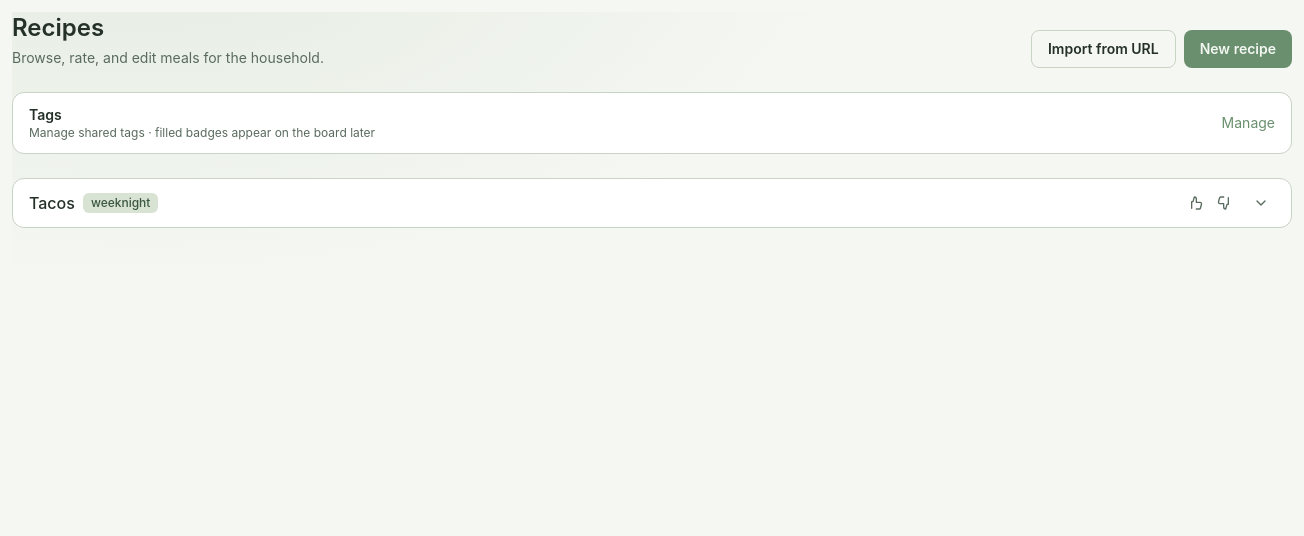
it: RecipesPage › expands a recipe to show details and actions
The width and height of the screenshot is (1304, 536).
Expected: the heading "Recipes" is shown, x1=12 y1=13 x2=104 y2=42
Expected: the text "Tacos" is shown, x1=29 y1=191 x2=75 y2=215
Click the button named "Expand recipe".
click(1261, 203)  # box x1=1247 y1=189 x2=1275 y2=217
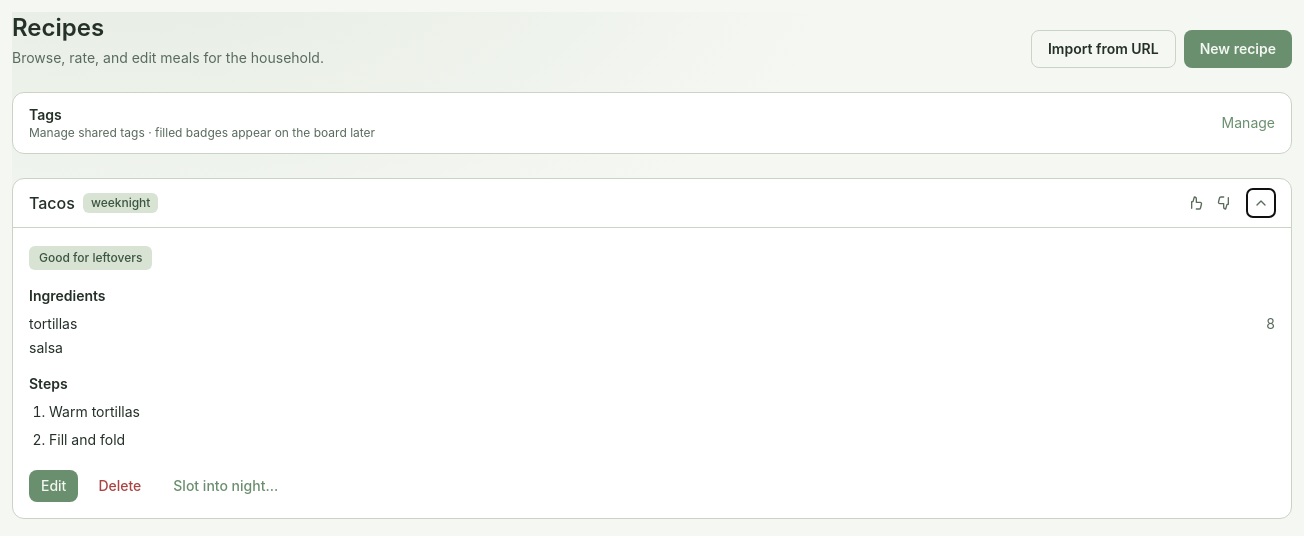
Expected: the text "Good for leftovers" is shown, x1=29 y1=246 x2=152 y2=270
Expected: the text "tortillas" is shown, x1=29 y1=315 x2=77 y2=332
Expected: the list item "Warm tortillas" is shown, x1=49 y1=403 x2=140 y2=420
